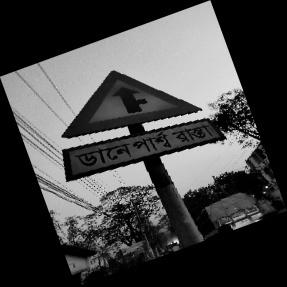Side-road-right: (60, 69, 220, 183)
